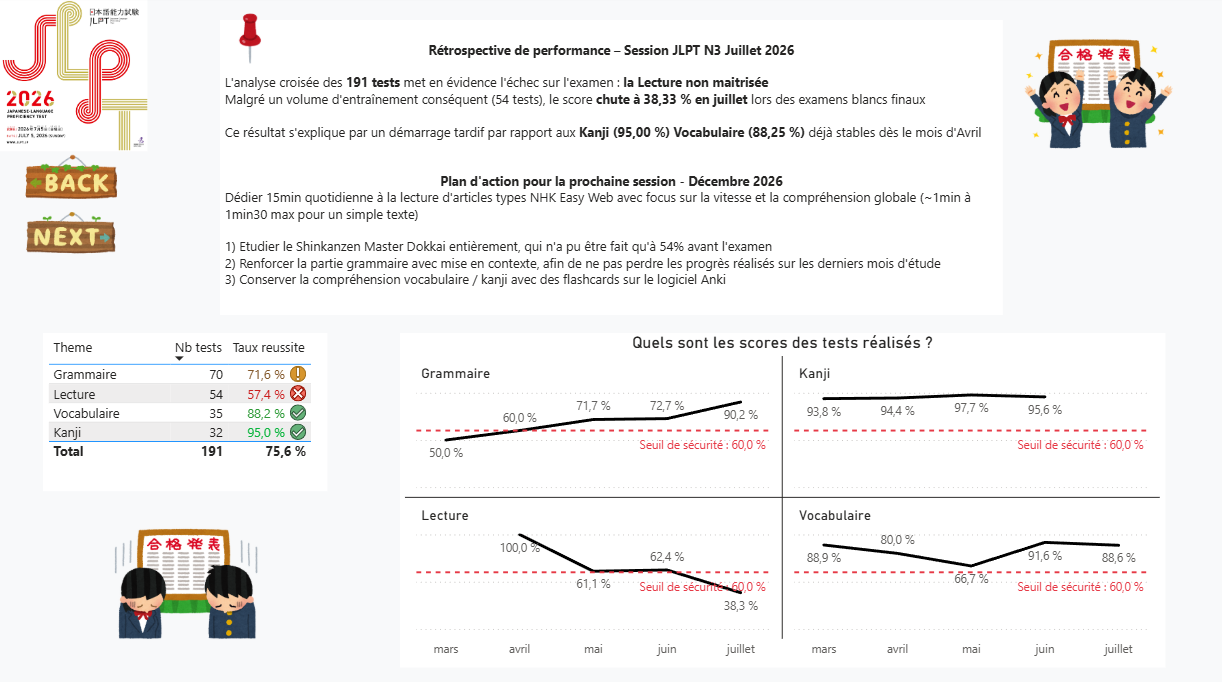

Layout of this report page (visuals, bound fields, positions):
{"tool":"powerbi","page":{"name":"bilan","canvas":[1280,720],"ordinal":1},"visuals":[{"type":"lineChart","title":"Quels sont les scores des tests réalisés ?","fields":{"Y":["_Mesures.taux reussite tests"],"Category":["DimDate.Année Hiérarchie.Année","DimDate.Année Hiérarchie.Mois"],"Rows":["Dim_Theme.Theme"]},"box":[421,350,794,347],"z":0},{"type":"tableEx","title":"Combien de test ont été fait ?","fields":{"Values":["Dim_Theme.Theme","_Mesures.nb test fait","_Mesures.taux reussite tests"]},"box":[51,350,295,164],"z":1000},{"type":"textbox","box":[234,25,812,306],"z":2000},{"type":"image","box":[0,0,159,161],"z":3000},{"type":"image","box":[119,524,159,173],"z":4000},{"type":"image","box":[1065,25,159,153],"z":5000},{"type":"image","box":[244,17,44,56],"z":6000},{"type":"image","box":[30,161,100,56],"z":7000},{"type":"image","title":"btn_next","box":[30.3,216.5,100.2,57.7],"z":8000}]}

Visuals, with their boxes in screenshot pixels (x1, y1, x2, y2), scaled from the page's 1280x720 canvas onto the 1222x682 screenshot:
"Quels sont les scores des tests réalisés ?" lineChart: BBox(402, 332, 1160, 660)
"Combien de test ont été fait ?" tableEx: BBox(49, 332, 330, 487)
textbox: BBox(223, 24, 999, 314)
image: BBox(0, 0, 152, 153)
image: BBox(114, 496, 265, 660)
image: BBox(1017, 24, 1169, 169)
image: BBox(233, 16, 275, 69)
image: BBox(29, 153, 124, 206)
"btn_next" image: BBox(29, 205, 125, 260)
